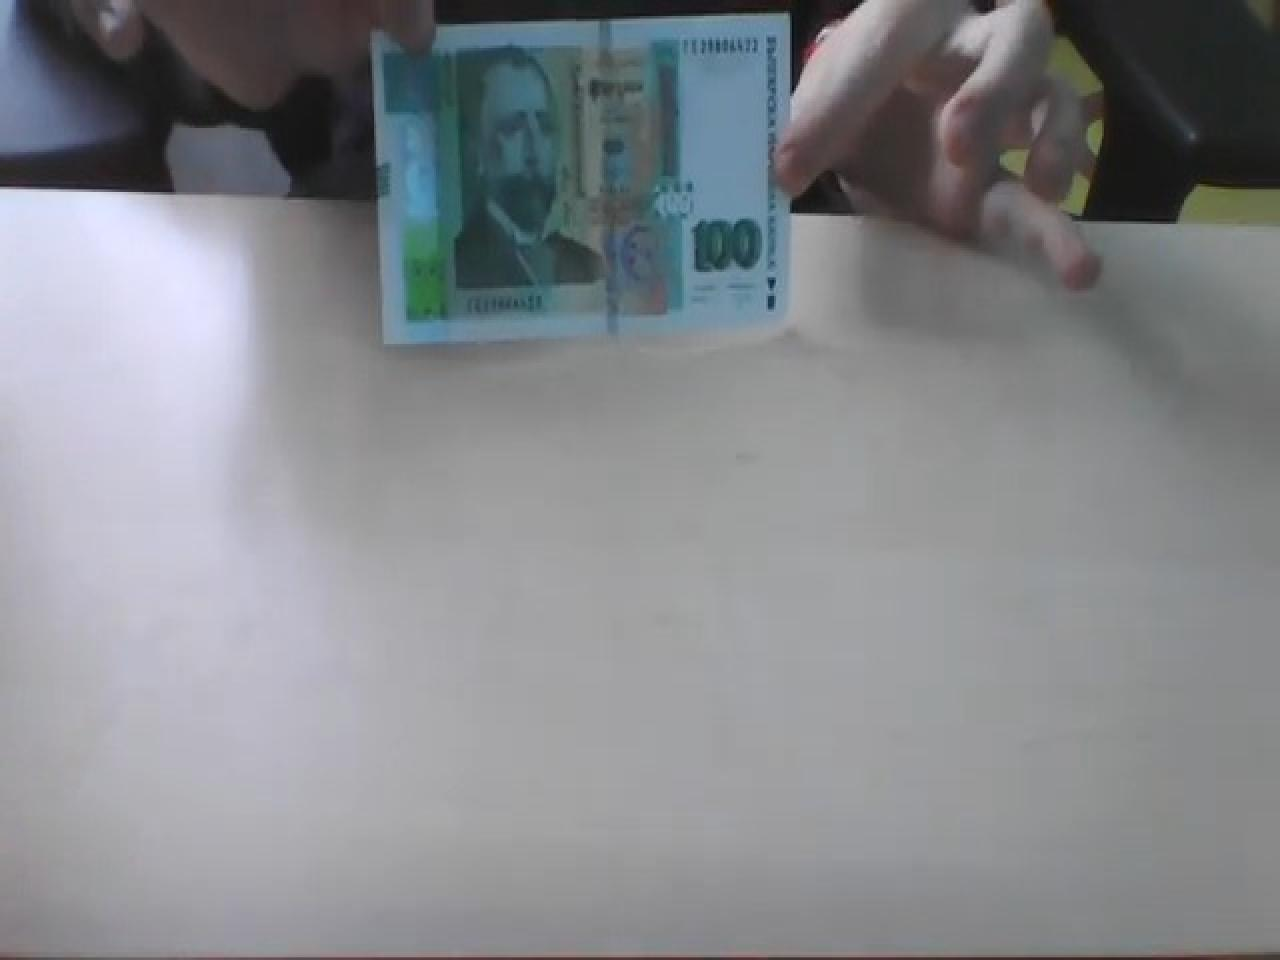100leva: (370, 11, 794, 349)
